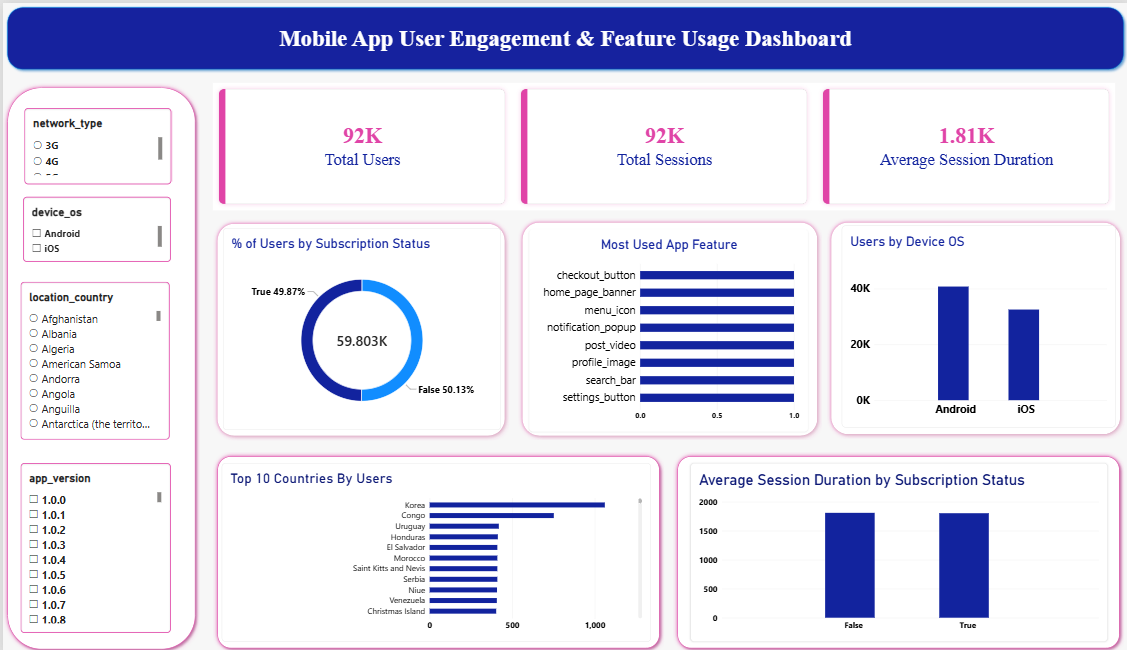

The page's visual inventory and layout, read from the dashboard file:
{"tool":"powerbi","page":{"name":"Page 1","canvas":[2250,1300],"ordinal":0},"visuals":[{"type":"cardVisual","fields":{"Data":["mobile_feature (2).Total Users","mobile_feature (2).Total Sessions","mobile_feature (2).Average Session Duration"]},"box":[420.4,159.2,1804.2,254.2],"z":0},{"type":"shape","box":[0,0,2250,141.7],"z":1000},{"type":"shape","box":[420.4,431.3,592.5,442.2],"z":2000},{"type":"donutChart","title":"% of Users by Subscription Status","fields":{"Category":["mobile_feature (2).is_subscribed"],"Y":["Count(mobile_feature (2).user_id)"]},"box":[440,450.9,556.2,404.2],"z":3000},{"type":"shape","box":[1030.3,429.1,607.7,444.4],"z":4000},{"type":"clusteredBarChart","title":"Most Used App Feature","fields":{"Category":["mobile_feature (2).event_target"],"Y":["Count(mobile_feature (2).event_target)"]},"box":[1052.1,453.1,557.6,405.2],"z":5000},{"type":"shape","box":[1646.9,430.6,595.8,441.7],"z":6000},{"type":"columnChart","title":"Users by Device OS","fields":{"Category":["mobile_feature (2).device_os"],"Y":["Count(mobile_feature (2).user_id)"]},"box":[1677.1,445.8,547.9,404.2],"z":7000},{"type":"shape","box":[0,159,393.8,1141.7],"z":8000},{"type":"shape","box":[420.8,897.9,902.1,402.1],"z":9000},{"type":"shape","box":[1340.8,898,902.1,402.1],"z":10000},{"type":"barChart","title":"Top 10 Countries By Users","fields":{"Category":["mobile_feature (2).location_country"],"Y":["Count(mobile_feature (2).user_id)"]},"box":[437.8,919.2,858.2,357.2],"z":11000},{"type":"columnChart","title":"Average Session Duration by Subscription Status","fields":{"Category":["mobile_feature (2).is_subscribed"],"Y":["Avg(mobile_feature (2).session_duration_sec)"]},"box":[1374.5,919.2,834.3,357.2],"z":12000},{"type":"listSlicer","fields":{"Values":["mobile_feature (2).device_os"]},"box":[39.2,387.7,296.2,130.7],"z":13000},{"type":"listSlicer","fields":{"Values":["mobile_feature (2).app_version"]},"box":[34.9,919.2,300.6,339.8],"z":14000},{"type":"listSlicer","fields":{"Values":["mobile_feature (2).location_country"]},"box":[34.9,557.6,298.4,315.9],"z":15000},{"type":"listSlicer","fields":{"Values":["mobile_feature (2).network_type"]},"box":[41.4,209.1,294.1,152.5],"z":16000}]}

Visuals, with their boxes in screenshot pixels (x1, y1, x2, y2), scaled from the page's 2250x1300 canvas onto the 1127x650 screenshot:
cardVisual - mobile_feature (2).Total Users x mobile_feature (2).Total Sessions: [left=211, top=80, right=1114, bottom=207]
shape: [left=0, top=0, right=1126, bottom=71]
shape: [left=211, top=216, right=507, bottom=437]
"% of Users by Subscription Status" donutChart: [left=220, top=225, right=499, bottom=428]
shape: [left=516, top=215, right=820, bottom=437]
"Most Used App Feature" clusteredBarChart: [left=527, top=227, right=806, bottom=429]
shape: [left=825, top=215, right=1123, bottom=436]
"Users by Device OS" columnChart: [left=840, top=223, right=1114, bottom=425]
shape: [left=0, top=80, right=197, bottom=649]
shape: [left=211, top=449, right=663, bottom=649]
shape: [left=672, top=449, right=1123, bottom=649]
"Top 10 Countries By Users" barChart: [left=219, top=460, right=649, bottom=638]
"Average Session Duration by Subscription Status" columnChart: [left=688, top=460, right=1106, bottom=638]
listSlicer - mobile_feature (2).device_os: [left=20, top=194, right=168, bottom=259]
listSlicer - mobile_feature (2).app_version: [left=17, top=460, right=168, bottom=630]
listSlicer - mobile_feature (2).location_country: [left=17, top=279, right=167, bottom=437]
listSlicer - mobile_feature (2).network_type: [left=21, top=105, right=168, bottom=181]
